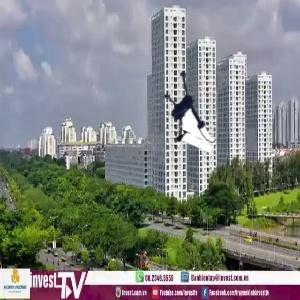drone: (146, 64, 230, 148)
